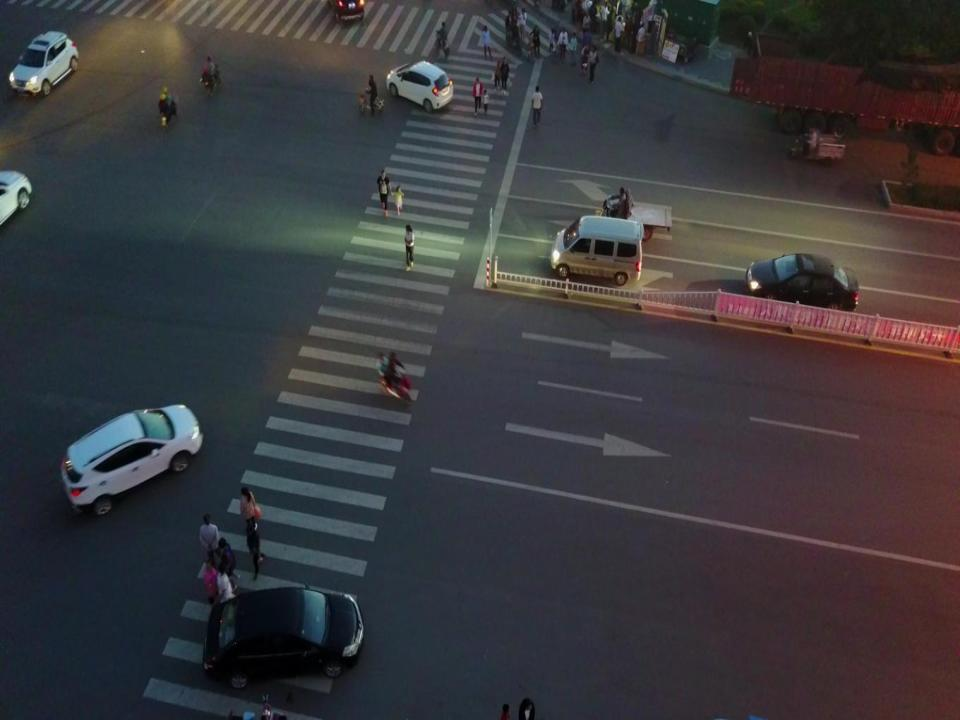car: (201, 580, 364, 690), (60, 401, 204, 516), (746, 249, 862, 320), (8, 29, 79, 99), (385, 59, 454, 112), (329, 0, 365, 24)
truck: (727, 29, 959, 156)
van: (550, 214, 644, 286)
